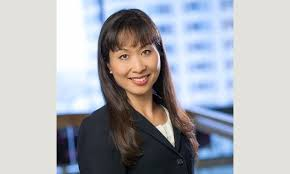asian_female: (80, 12, 182, 100)
